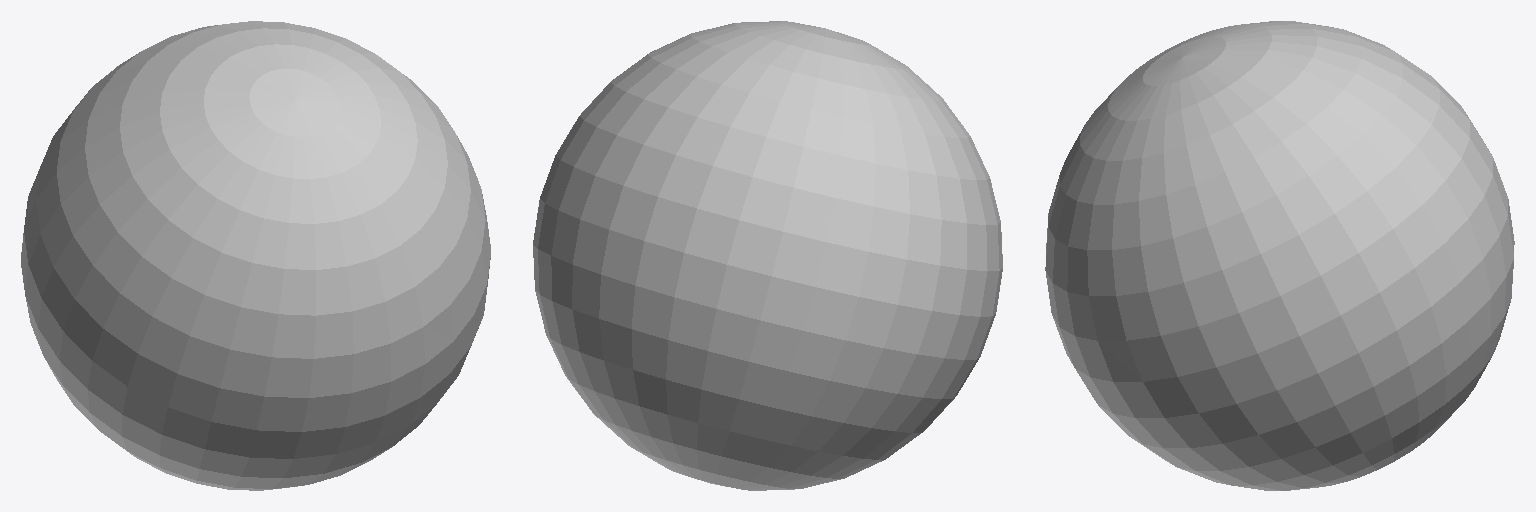
The model's file is Right Wrist.obj.
3 renders of one model, left to right at view 1: azimuth 30°, elevation 25°; view 2: azimuth 150°, elevation 25°; view 3: azimuth 270°, elevation 25°, orthographic.
Parts seen in each view (by area): view 1: Right_Wrist_Sphere.025; view 2: Right_Wrist_Sphere.025; view 3: Right_Wrist_Sphere.025.
Boxes of the visible parts, x1,y1,x2,y2 form: Right_Wrist_Sphere.025: [21, 21, 490, 490]; Right_Wrist_Sphere.025: [533, 21, 1002, 490]; Right_Wrist_Sphere.025: [1045, 21, 1514, 490].
Bounding box in the file's own units: 0.2787 × 0.2798 × 0.2788.